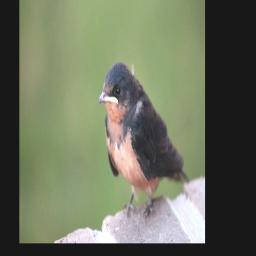Swallow: (97, 60, 189, 221)
